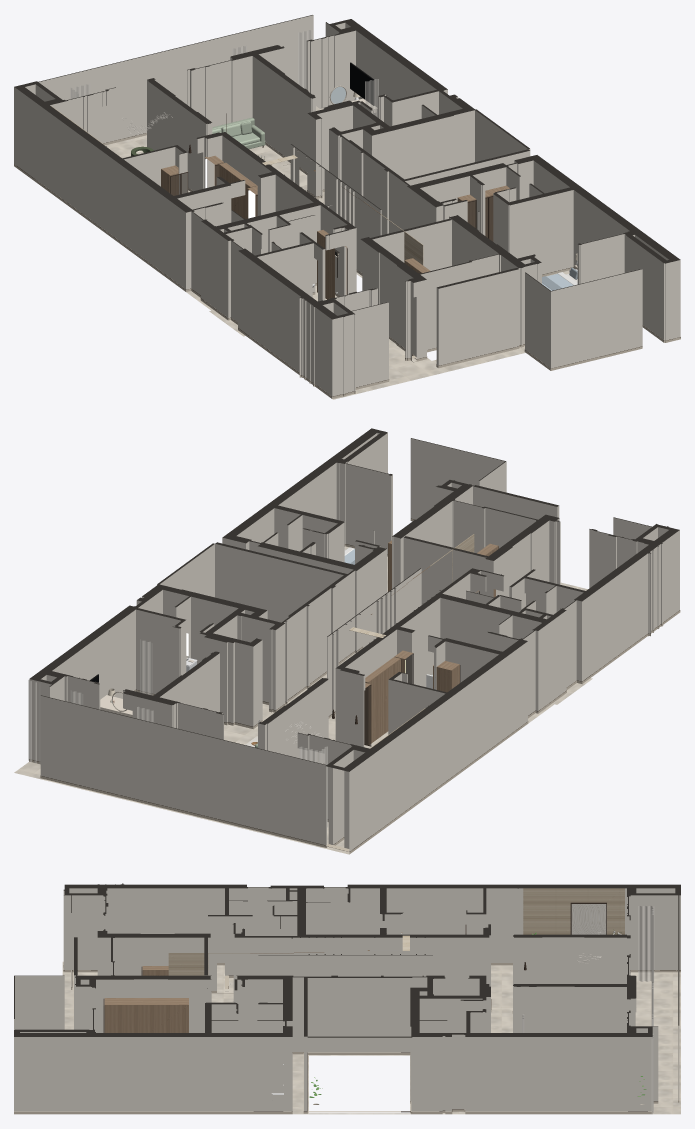
The model's file is ff_house_v15.glb.
3 renders of one model, top to bottom at view 1: azimuth 30°, elevation 25°; view 2: azimuth 150°, elevation 25°; view 3: azimuth 270°, elevation 25°, orthographic. The views are drawn at different scales.
Visible parts, largest first — view 1: MeshStandardMaterial_14, MeshStandardMaterial_15, MeshStandardMaterial_1, MeshStandardMaterial_7, MeshStandardMaterial_16, MeshStandardMaterial_104, MeshStandardMaterial_87, MeshStandardMaterial_96; view 2: MeshStandardMaterial_14, MeshStandardMaterial_15, MeshStandardMaterial_7, MeshStandardMaterial_16, MeshStandardMaterial_1, MeshStandardMaterial_104, MeshStandardMaterial_87; view 3: MeshStandardMaterial_14, MeshStandardMaterial_15, MeshStandardMaterial_1, MeshStandardMaterial_5, MeshStandardMaterial_16, MeshStandardMaterial_7, MeshStandardMaterial_104, MeshStandardMaterial_91.
Part boxes in pixels (x1,y1,x2,y2): MeshStandardMaterial_14: [14, 15, 680, 396]; MeshStandardMaterial_15: [14, 15, 680, 319]; MeshStandardMaterial_1: [105, 135, 569, 399]; MeshStandardMaterial_7: [161, 155, 509, 299]; MeshStandardMaterial_16: [14, 133, 680, 398]; MeshStandardMaterial_104: [70, 30, 378, 117]; MeshStandardMaterial_87: [170, 165, 493, 294]; MeshStandardMaterial_96: [350, 63, 373, 104]; MeshStandardMaterial_14: [29, 432, 679, 853]; MeshStandardMaterial_15: [29, 428, 679, 771]; MeshStandardMaterial_7: [364, 540, 498, 744]; MeshStandardMaterial_16: [29, 518, 680, 853]; MeshStandardMaterial_1: [14, 546, 680, 854]; MeshStandardMaterial_104: [28, 639, 327, 827]; MeshStandardMaterial_87: [364, 592, 479, 745]; MeshStandardMaterial_14: [14, 887, 680, 1111]; MeshStandardMaterial_15: [14, 883, 680, 1037]; MeshStandardMaterial_1: [62, 961, 680, 1114]; MeshStandardMaterial_5: [168, 888, 624, 975]; MeshStandardMaterial_16: [14, 963, 680, 1114]; MeshStandardMaterial_7: [104, 932, 402, 1032]; MeshStandardMaterial_104: [522, 905, 654, 1113]; MeshStandardMaterial_91: [571, 904, 606, 934].
Size of the model in its own units: 12.9 by 3.02 by 23.57.
104 materials, 16 textured.
